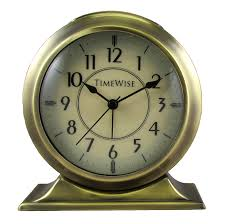alarm_clock: (18, 7, 206, 209), (18, 14, 206, 209), (24, 14, 208, 209), (24, 14, 206, 209)
